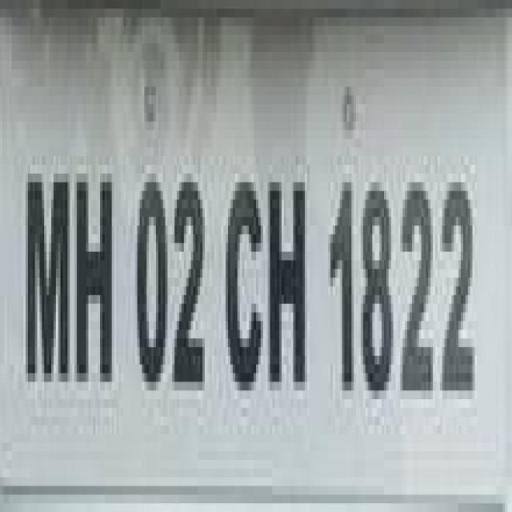number plate: (9, 26, 512, 494)
